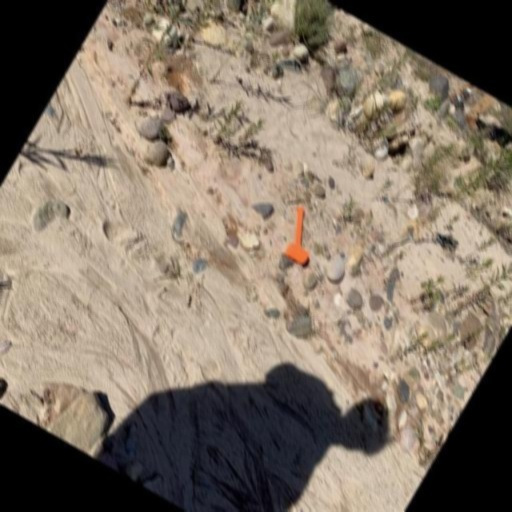mallet: (274, 204, 331, 267)
